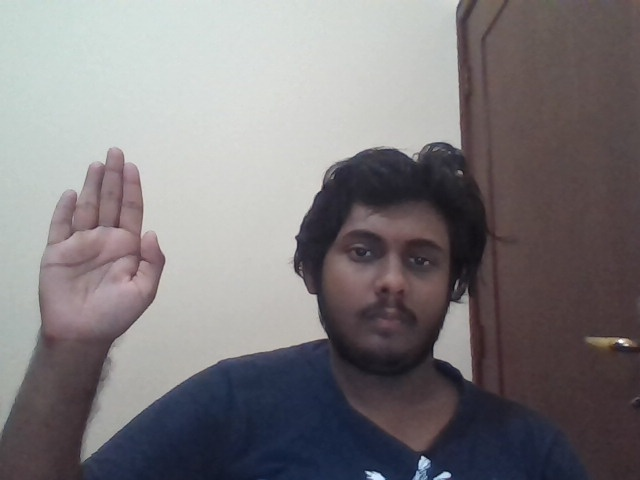hello: (37, 146, 166, 342)
